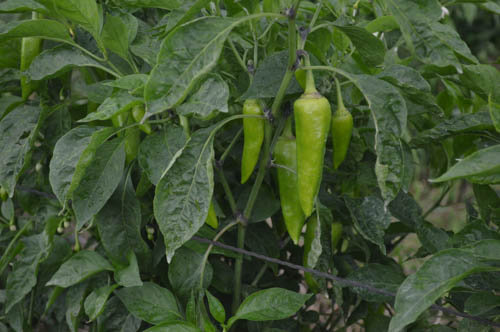ChiliPepper: (288, 91, 328, 222), (270, 134, 309, 247), (303, 214, 347, 297), (233, 98, 267, 195), (16, 30, 45, 108), (329, 102, 357, 176), (111, 107, 143, 167), (130, 106, 153, 136)
